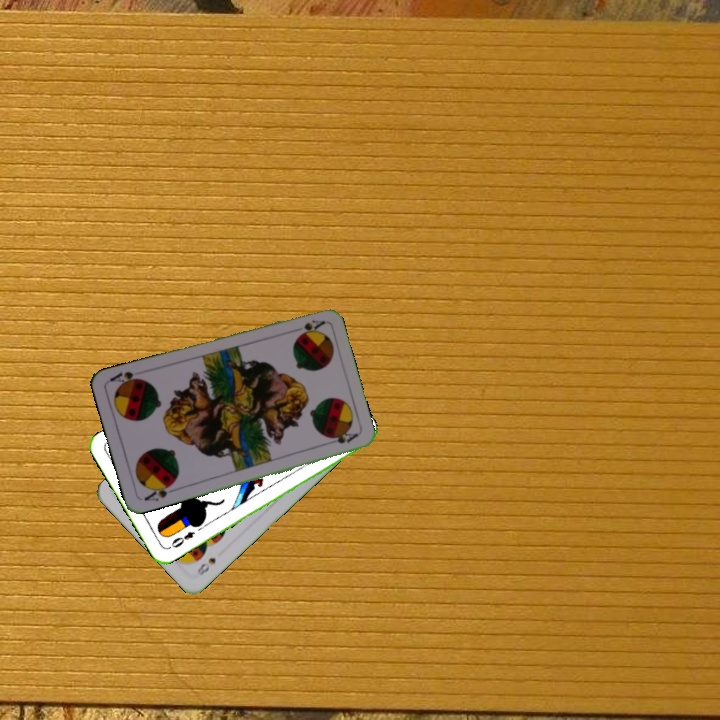EO: (164, 527, 197, 552)
S8: (193, 553, 219, 578)
SA: (140, 478, 179, 504), (287, 316, 328, 337)
